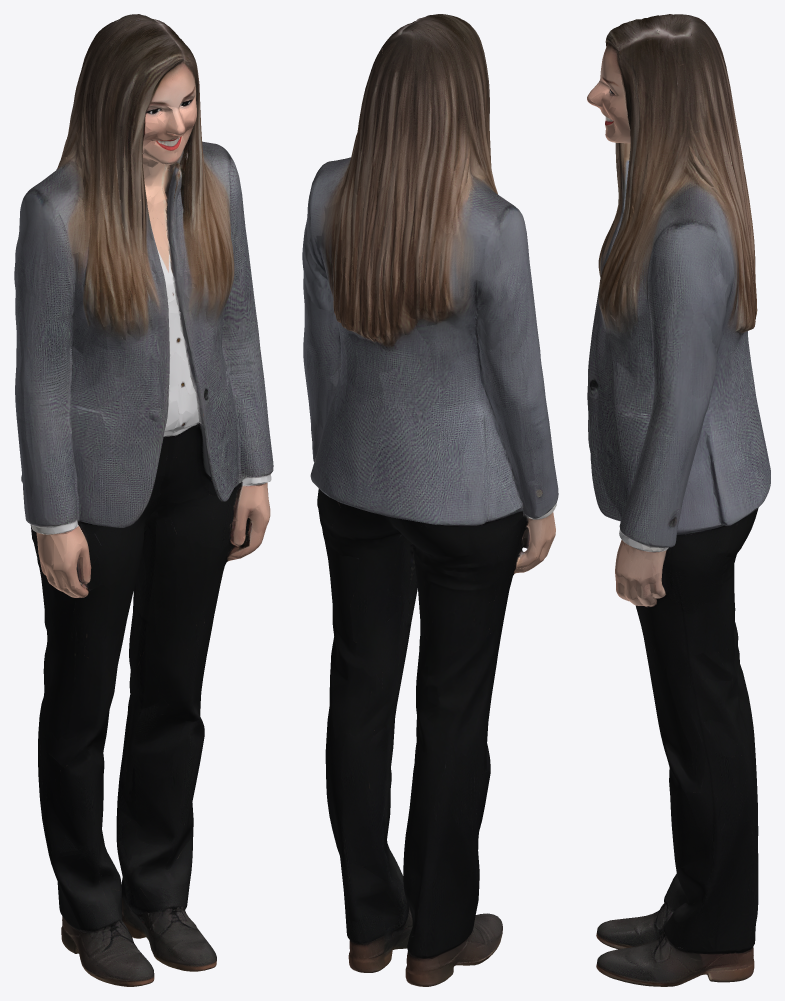
The model's file is health-life-sciences.glb.
The picture shows the model from 3 angles, left to right: view 1: azimuth 30°, elevation 25°; view 2: azimuth 150°, elevation 25°; view 3: azimuth 270°, elevation 25°; orthographic projection.
Size of the model in its own units: 0.5065 by 1.9 by 0.3355.
Materials: 1 (1 with a texture image).
